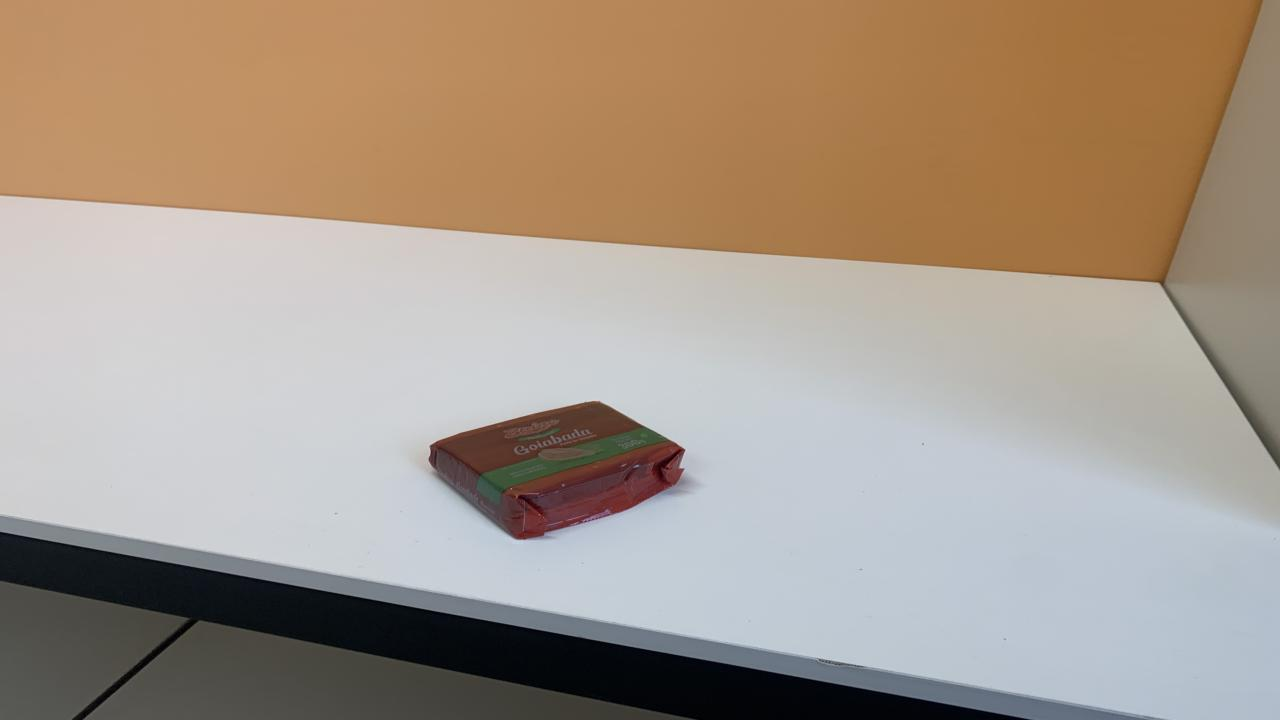Guava-Snacks: (430, 401, 685, 538)
